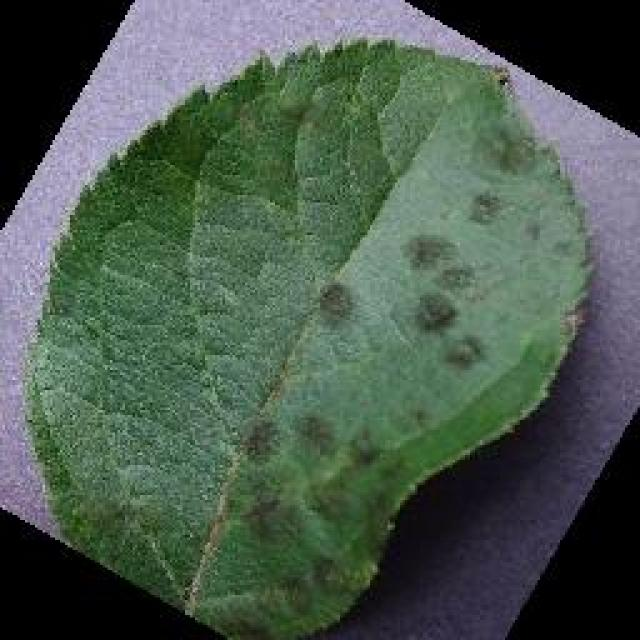apple scab disease: (18, 32, 598, 638)
